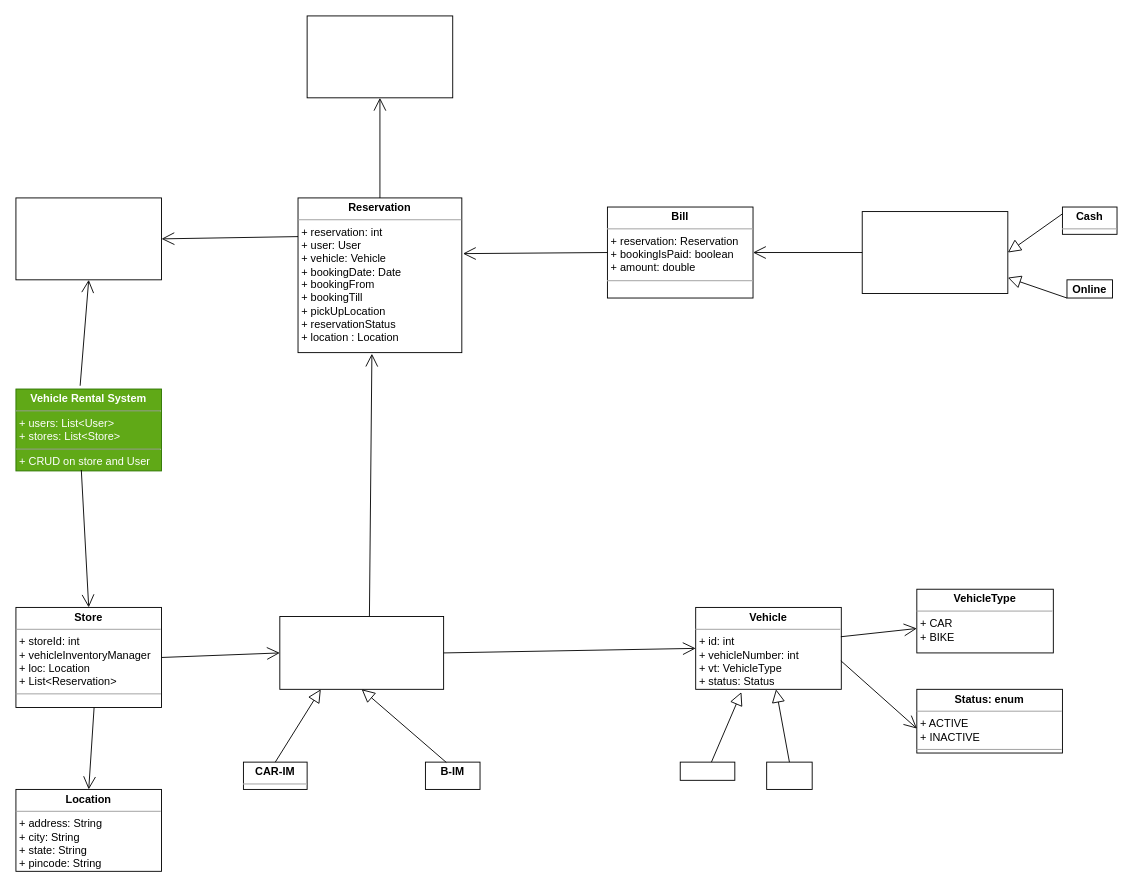
Image size: 1133x887. Some labels were removed from this diagram. The shapes that lost their labels are listed below. From the top down, each one's box as (x1, y1, x2, y2) in pixels, then its label:
(306, 15, 453, 98): ReservationStatus: enum + COMPLETED + CLOSED + SCHEDULED
(15, 197, 162, 280): User + userId: int + drivingLiscence: String + CRUD on User: Type
(861, 211, 1008, 293): Payment + bill: Bill + payBill()
(279, 616, 444, 689): VehicleInventoryManagement + field: List<Vehicle> + CRUD on Vehicles
(679, 761, 735, 780): CAR
(766, 761, 812, 789): BIKE
